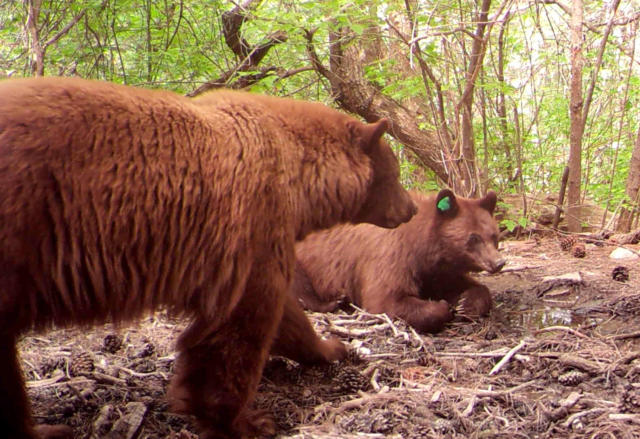bear: (348, 113, 423, 232), (433, 186, 511, 278)
